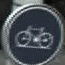bike lane: (3, 4, 59, 59)
